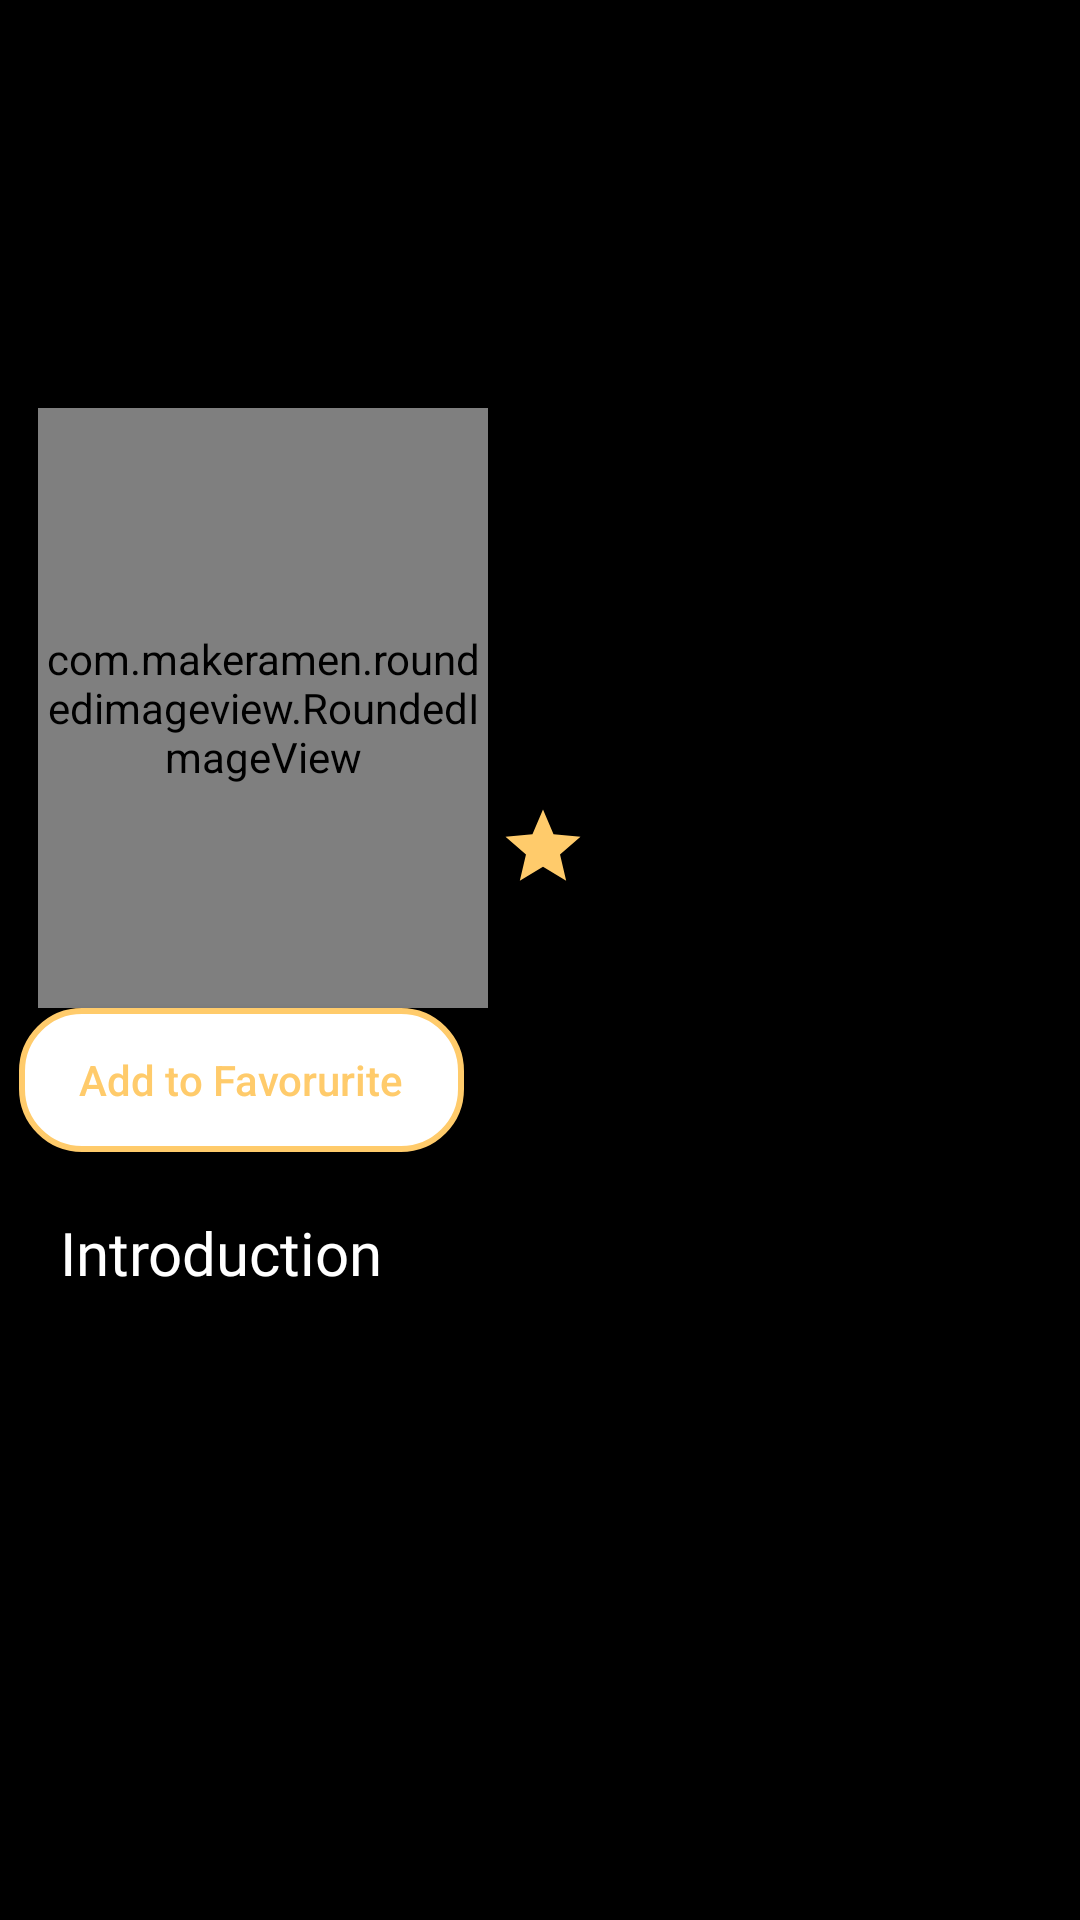

Icon bounding boxes for this 1080×1920 phone screenshot, format [x1,y1,x2,y2]:
star: [506,810,580,881]
